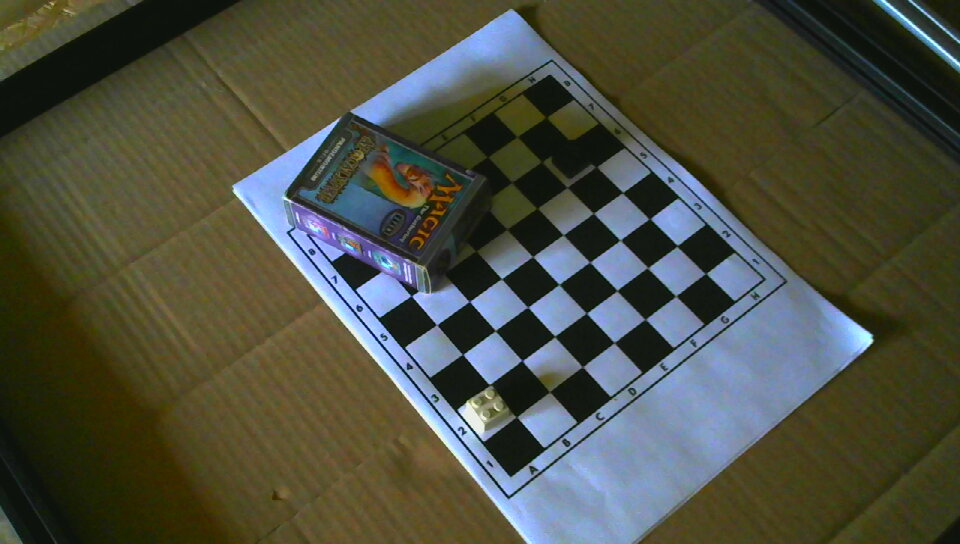bp: (552, 143, 590, 177)
wp: (465, 385, 511, 434)
